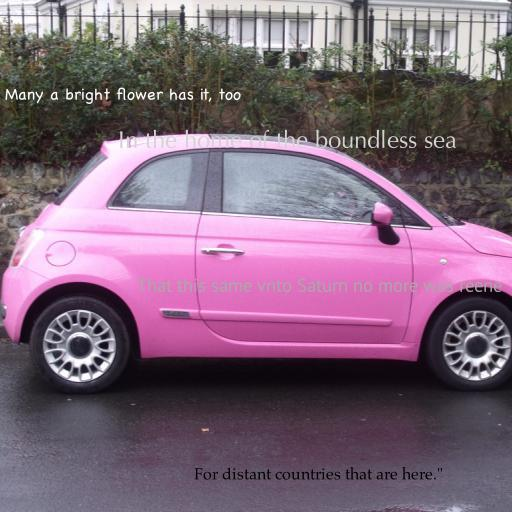Chalkboard: (5, 87, 241, 105)
Optima: (117, 129, 457, 149)
PT Sans: (136, 278, 502, 293)
Palatino: (193, 466, 443, 480)
